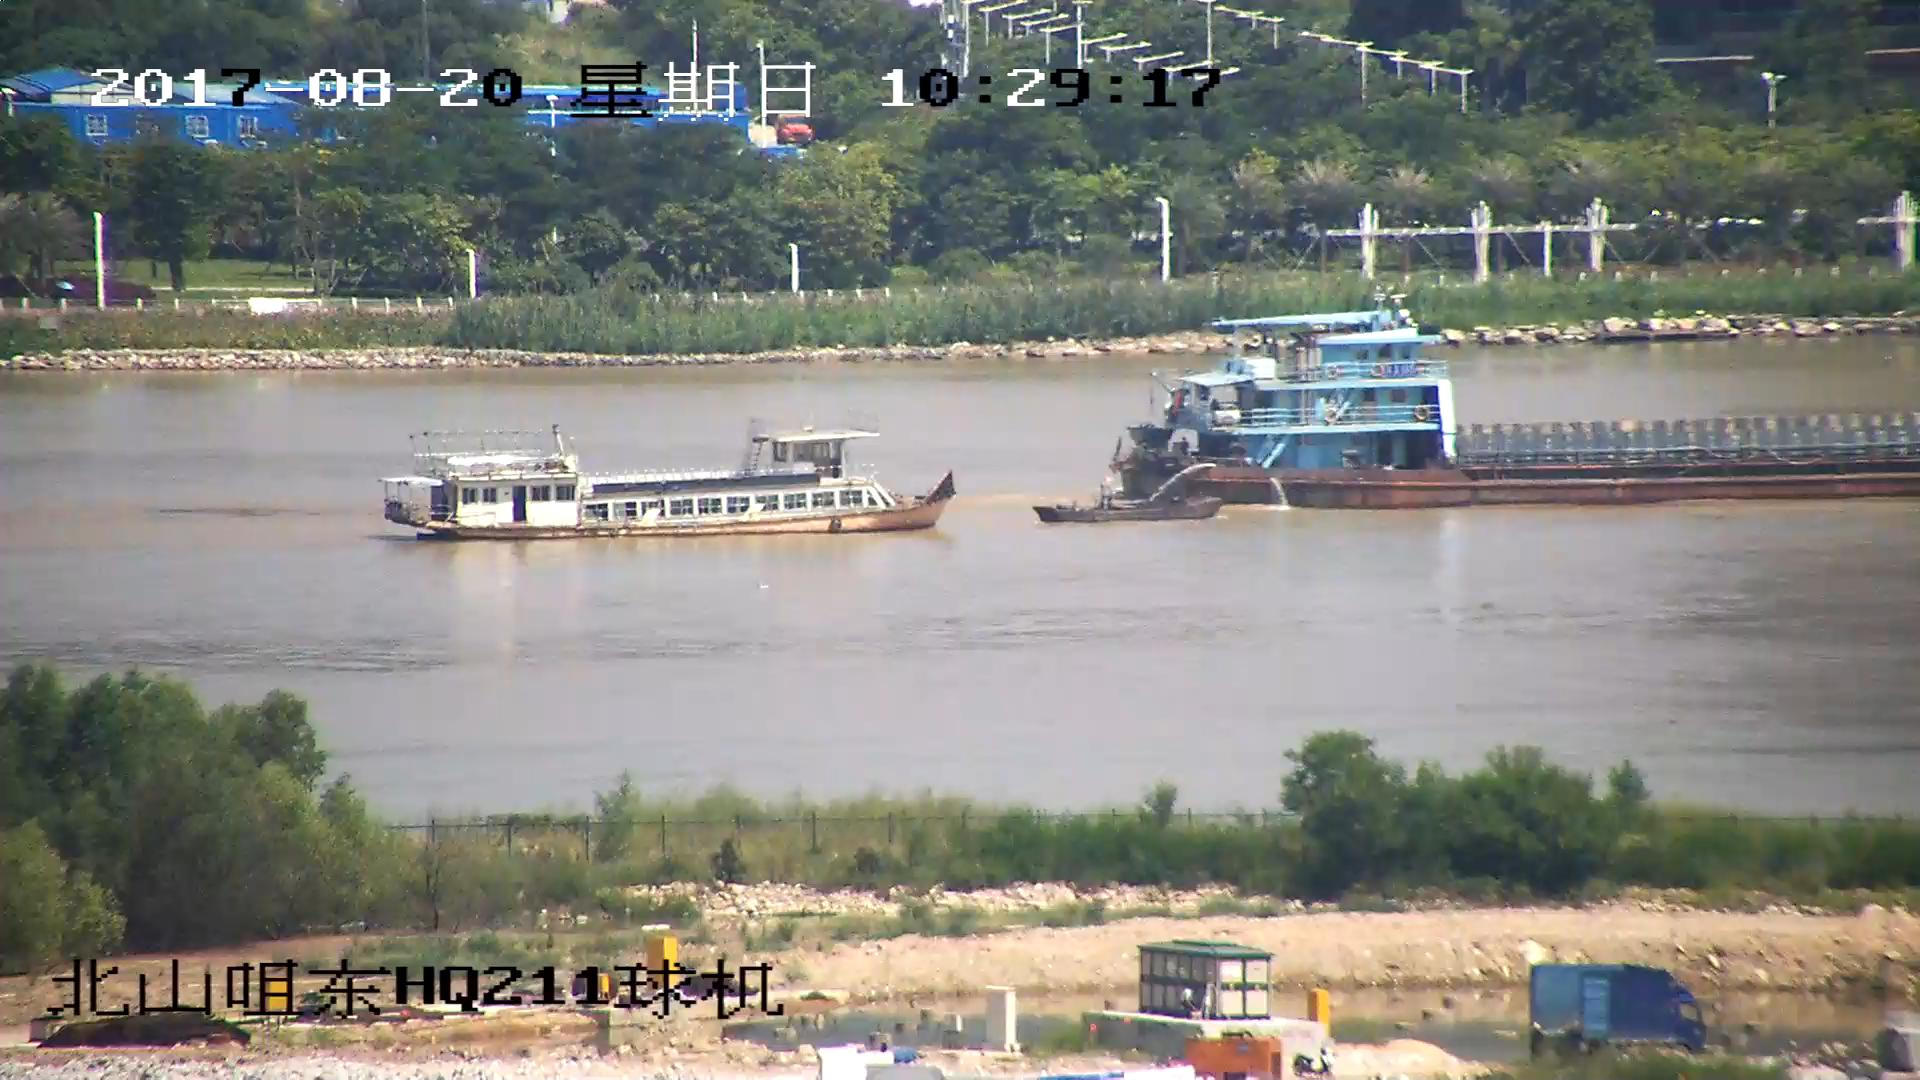fishing boat: (382, 420, 961, 539), (1036, 469, 1225, 527)
ore carrier: (1102, 303, 1920, 505)
